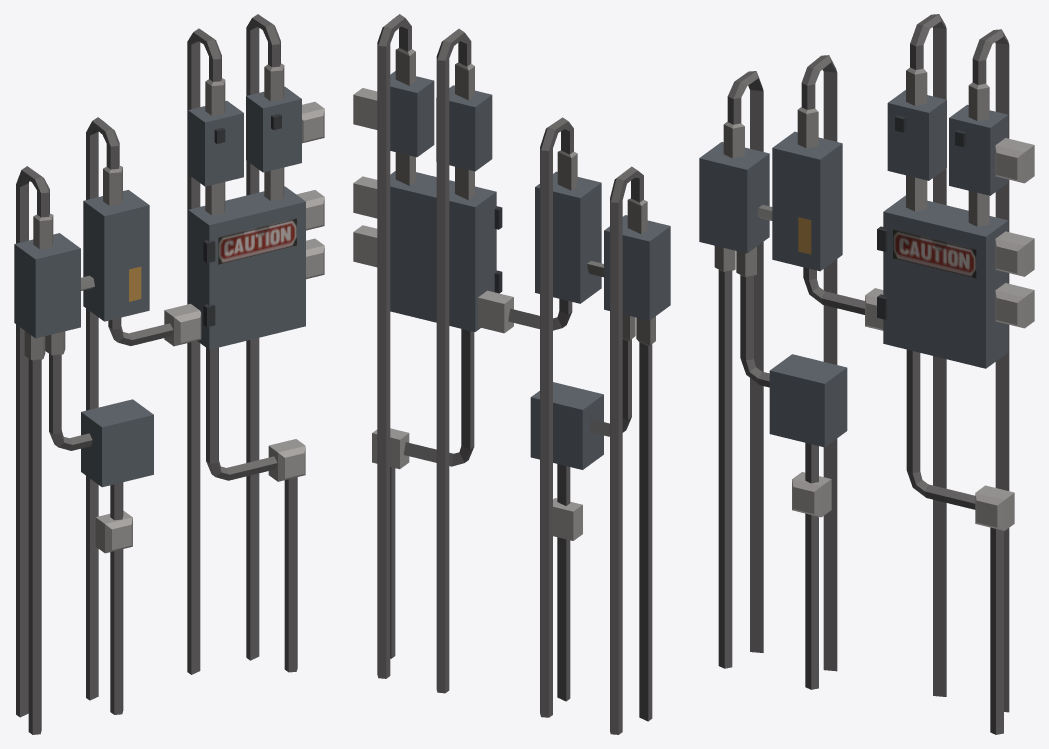
Rendered from SM_Prop_PowerBoxes_01.obj.
3 views of the same model, side by side, from view 1: azimuth 30°, elevation 25°; view 2: azimuth 150°, elevation 25°; view 3: azimuth 330°, elevation 25° (orthographic). The views are drawn at different scales.
Visible parts, largest first — view 1: SM_Prop_PowerBoxes_01_0; view 2: SM_Prop_PowerBoxes_01_0; view 3: SM_Prop_PowerBoxes_01_0.
Part boxes in pixels (x1,y1,x2,y2): SM_Prop_PowerBoxes_01_0: (14, 14, 324, 734); SM_Prop_PowerBoxes_01_0: (353, 14, 670, 734); SM_Prop_PowerBoxes_01_0: (699, 14, 1034, 734).
Size of the model in its own units: 1.18 by 2.44 by 0.2705.
Materials: 1 (1 with a texture image).
